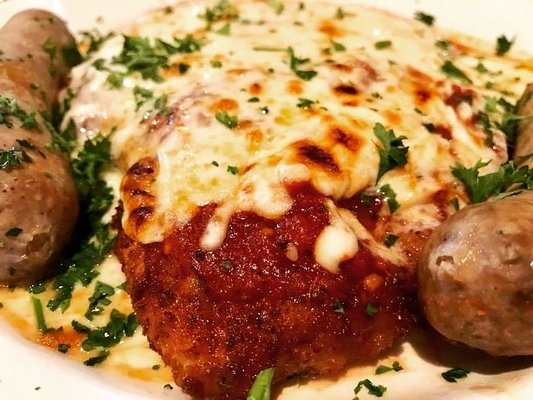sandwich: (0, 1, 532, 399)
